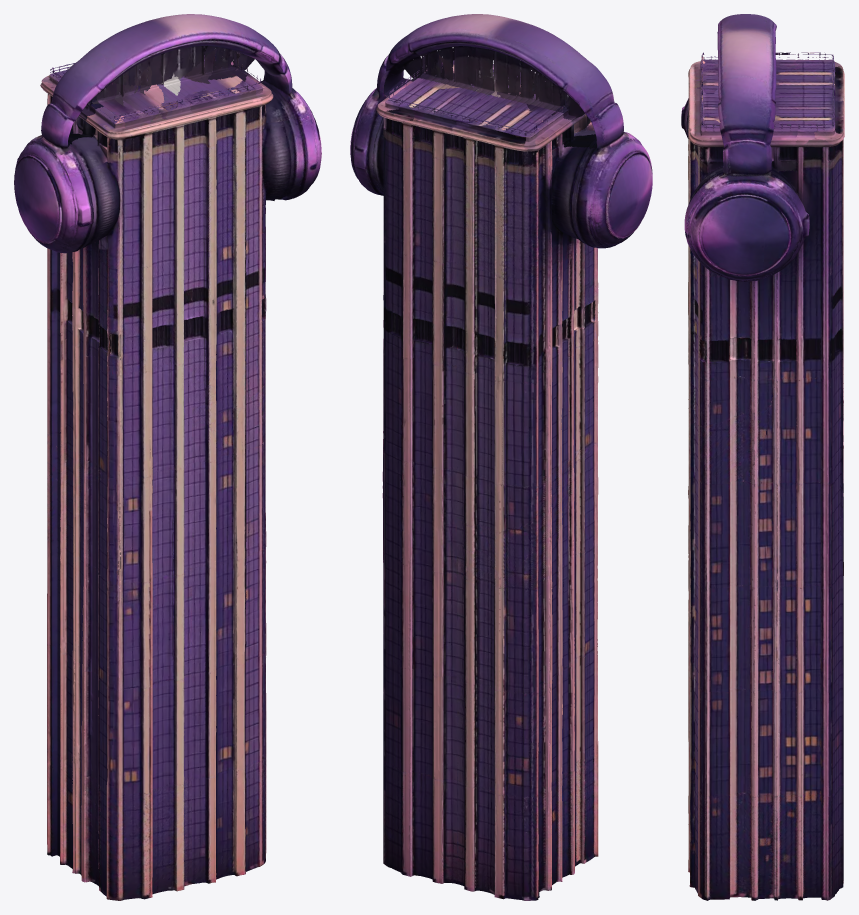
The model's file is tour_montparnasse_violet_light.glb.
3 renders of one model, left to right at view 1: azimuth 30°, elevation 25°; view 2: azimuth 150°, elevation 25°; view 3: azimuth 270°, elevation 25°, orthographic.
Visible parts, largest first — view 1: tmpjfvqlf_tobj; view 2: tmpjfvqlf_tobj; view 3: tmpjfvqlf_tobj.
Boxes of the visible parts, x1,y1,x2,y2 form: tmpjfvqlf_tobj: [14, 14, 321, 900]; tmpjfvqlf_tobj: [350, 14, 652, 900]; tmpjfvqlf_tobj: [681, 14, 844, 900].
Size of the model in its own units: 0.3432 by 1 by 0.1781.
1 material, 1 textured.
